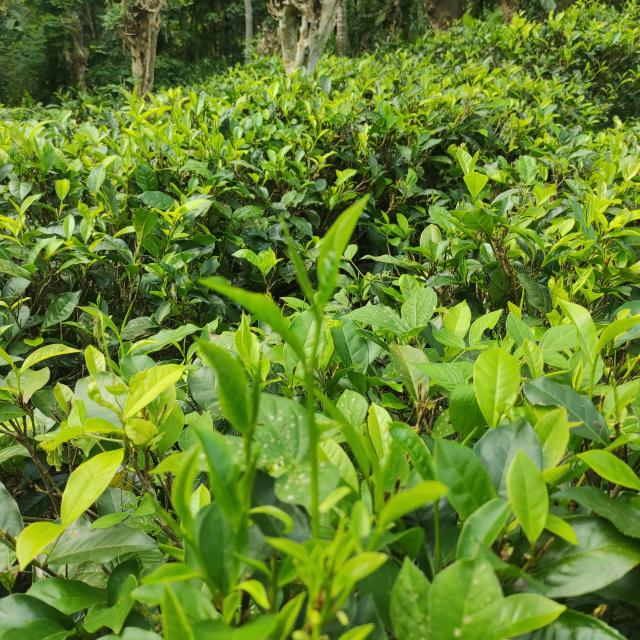unopened_leaf: (269, 210, 325, 328), (146, 490, 208, 580), (240, 340, 269, 450)
